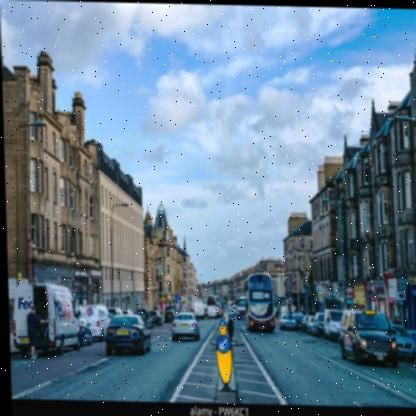Keep left: (213, 333, 229, 352), (217, 318, 224, 327)
